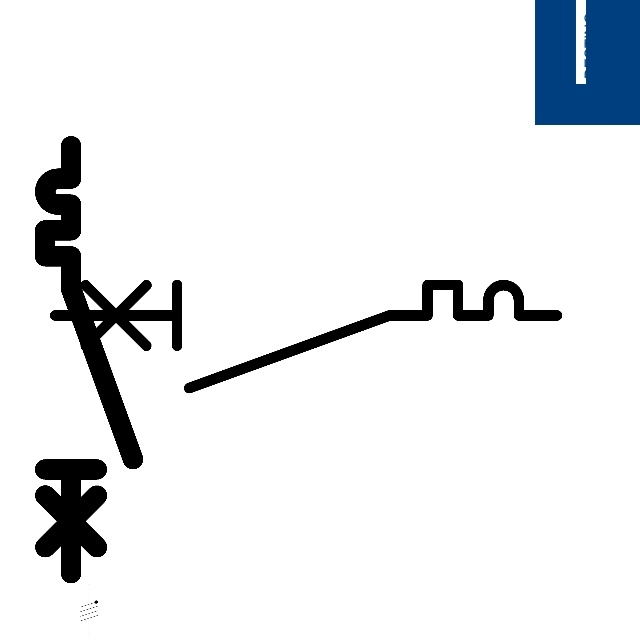interruptor_termomagnetico: (42, 272, 570, 401), (34, 135, 144, 584)
